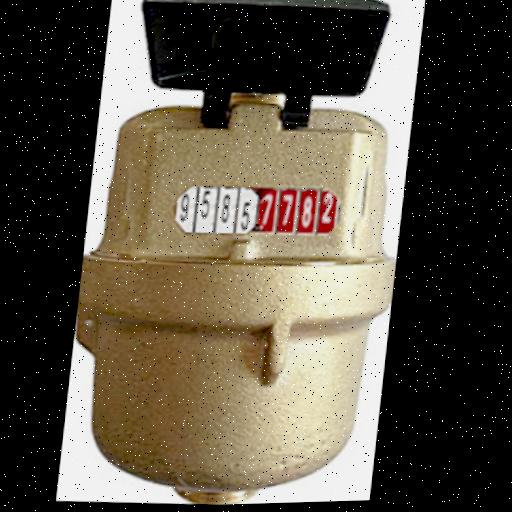2: (318, 190, 344, 235)
5: (196, 186, 219, 233), (237, 186, 259, 234)
7: (257, 186, 279, 234), (278, 187, 298, 234)
8: (215, 186, 238, 234), (297, 189, 319, 235)
9: (173, 185, 196, 233)
border_water_meter_number: (171, 179, 345, 241)
